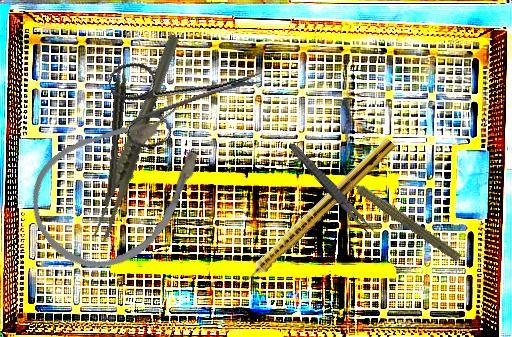Cannula: (9, 79, 234, 294)
Dressing Forceps: (285, 139, 379, 239)
Handpiece: (233, 133, 396, 293), (333, 164, 466, 265)
Iris Scissors: (105, 33, 273, 154)
Tissue Forceps: (59, 32, 216, 244), (102, 55, 130, 197)
